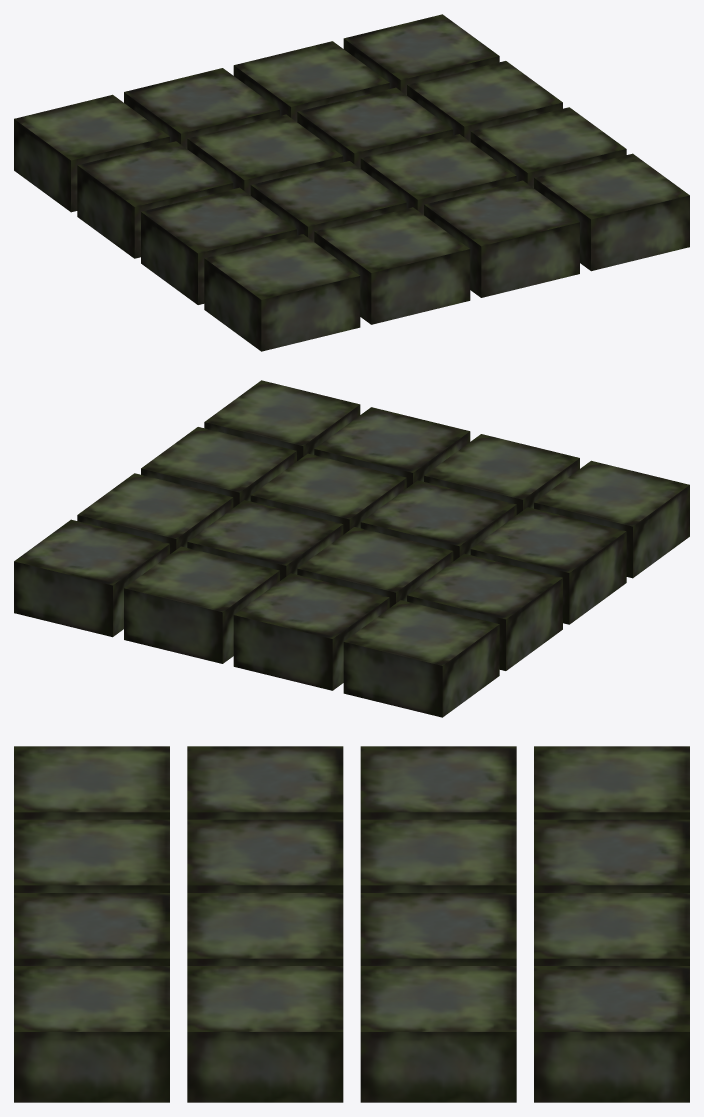
File: cobblestone-01.fbx
3 renders of one model, top to bottom at view 1: azimuth 30°, elevation 25°; view 2: azimuth 150°, elevation 25°; view 3: azimuth 270°, elevation 25°, orthographic. The views are drawn at different scales.
Parts seen in each view (by area): view 1: cobblestone_1; view 2: cobblestone_1; view 3: cobblestone_1.
Part boxes in pixels (x1,y1,x2,y2): cobblestone_1: [14, 14, 689, 351]; cobblestone_1: [14, 380, 689, 717]; cobblestone_1: [14, 746, 689, 1102].
Size of the model in its own units: 390 by 44.98 by 390.
